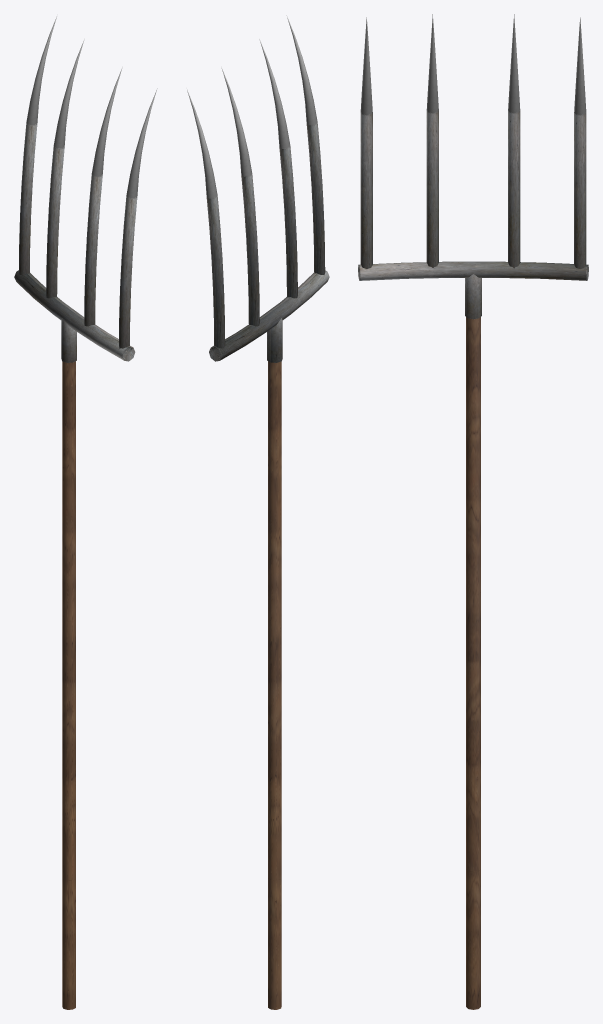
The model's file is MistgabelmitTexture.fbx.
3 views of the same model, side by side, from view 1: azimuth 30°, elevation 25°; view 2: azimuth 150°, elevation 25°; view 3: azimuth 270°, elevation 25° (orthographic). The views are drawn at different scales.
Parts seen in each view (by area): view 1: Stange, Querstange, Cylinder004, Cylinder003, Cylinder005, Cylinder002, Cone002, Cone005, Cone004, Cone003, VerbindungStange; view 2: Stange, Querstange, Cylinder003, Cylinder004, Cylinder002, Cylinder005, Cone005, Cone002, Cone003, Cone004, VerbindungStange; view 3: Stange, Querstange, Cylinder003, Cylinder004, Cylinder002, Cylinder005, VerbindungStange, Cone003, Cone004, Cone002, Cone005.
Boxes of the visible parts, x1,y1,x2,y2 form: Stange: (62, 361, 75, 1009); Querstange: (14, 270, 135, 361); Cylinder004: (84, 174, 102, 326); Cylinder003: (46, 146, 64, 298); Cylinder005: (119, 196, 137, 348); Cylinder002: (19, 123, 37, 274); Cone002: (26, 16, 56, 125); Cone005: (126, 88, 157, 198); Cone004: (91, 67, 122, 176); Cone003: (53, 39, 84, 148); VerbindungStange: (61, 318, 76, 362); Stange: (268, 361, 281, 1009); Querstange: (209, 270, 329, 361); Cylinder003: (241, 174, 259, 326); Cylinder004: (279, 146, 297, 298); Cylinder002: (206, 196, 225, 348); Cylinder005: (306, 123, 325, 274); Cone005: (286, 15, 317, 125); Cone002: (187, 89, 217, 198); Cone003: (221, 67, 252, 176); Cone004: (259, 39, 290, 148); VerbindungStange: (267, 318, 282, 362); Stange: (466, 317, 480, 1009); Querstange: (358, 261, 588, 280); Cylinder003: (508, 111, 520, 268); Cylinder004: (426, 111, 438, 267); Cylinder002: (574, 112, 586, 268); Cylinder005: (360, 112, 372, 268); VerbindungStange: (465, 274, 481, 319); Cone003: (508, 14, 520, 113); Cone004: (426, 14, 438, 113); Cone002: (574, 17, 586, 115); Cone005: (360, 17, 372, 115).
Bounding box in the file's own units: 11.06 × 219 × 45.43.
3 materials, 3 textured.
